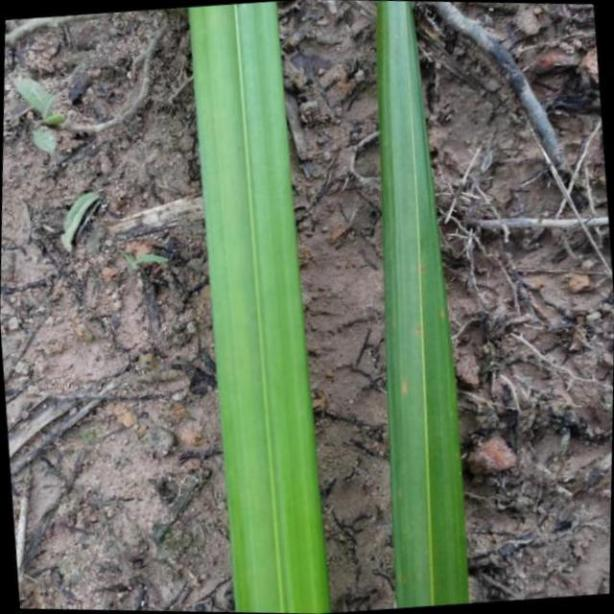nitrogen: (187, 0, 328, 614), (384, 0, 475, 614)
